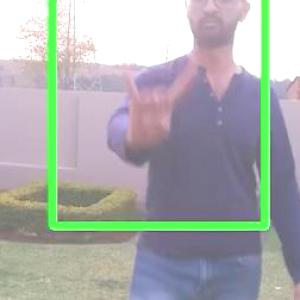takeoff-hand: (111, 51, 202, 160)
